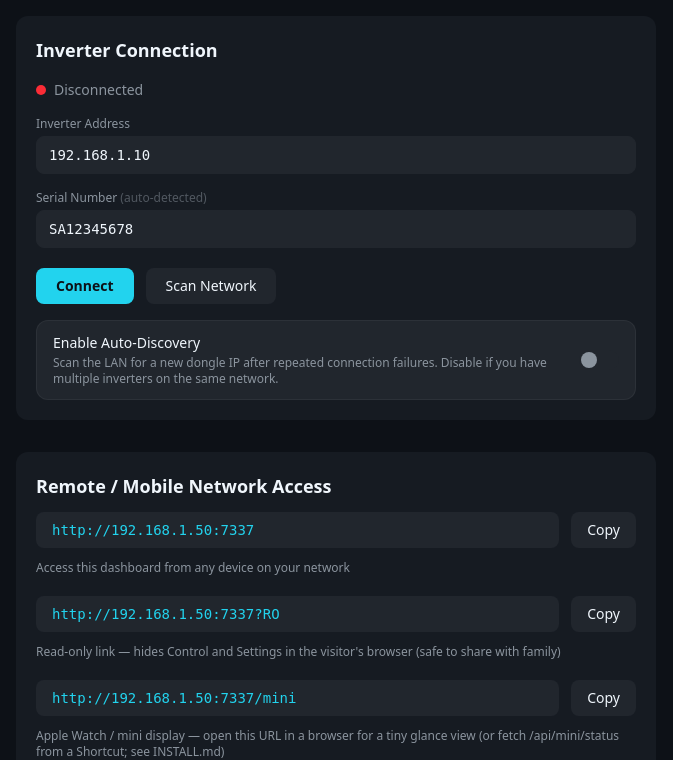
Scenario: <SettingsPage/> — page shell & hydration › discover › shows the no-inverters message when discovery finds none
This screenshot has width=673, height=760.
Click the button "Scan Network" at {"x": 211, "y": 286}, box [146, 268, 276, 304]
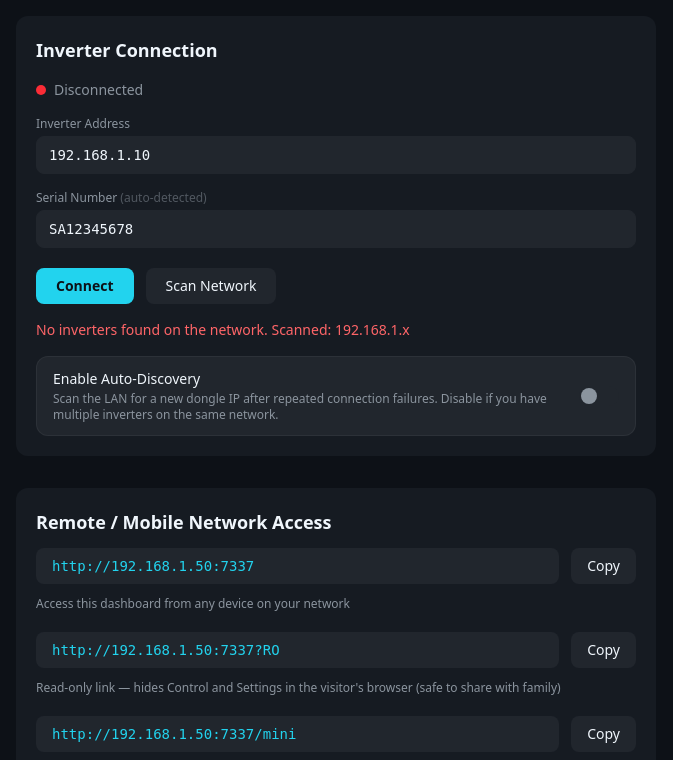
Expected: the text "No inverters found on the network. Scanned: 192.168.1.x" is shown, [36, 320, 410, 339]
